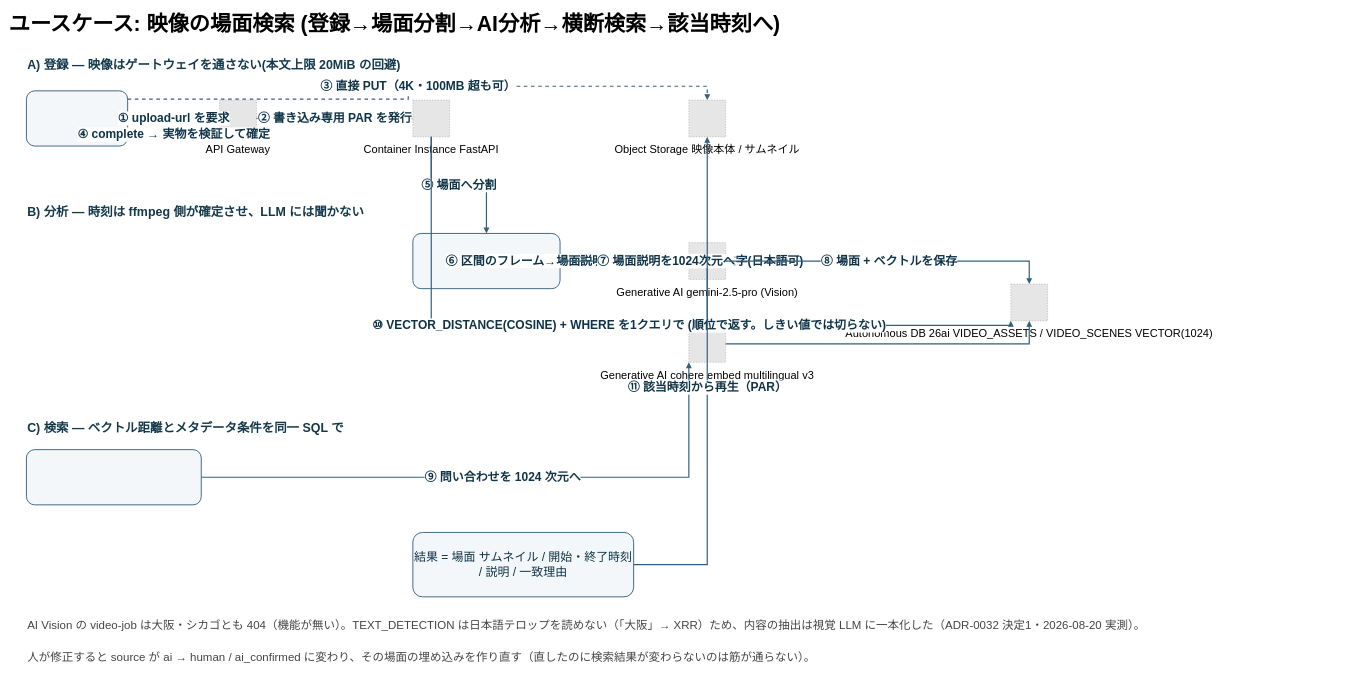
Some shapes in this 1368 by 683 pixel diagram are drawn without their labels. Grey dashed boxes stand in for pictures. Each missing label, with the centre of its shape:
"ffmpeg 場面転換検出→区間→代表フレーム" belongs at (486,261).
"ユーザー (ブラウザ)" belongs at (77,118).
"自然言語 + 条件 「雨の中でリポーターが話している場面」" belongs at (113,477).
